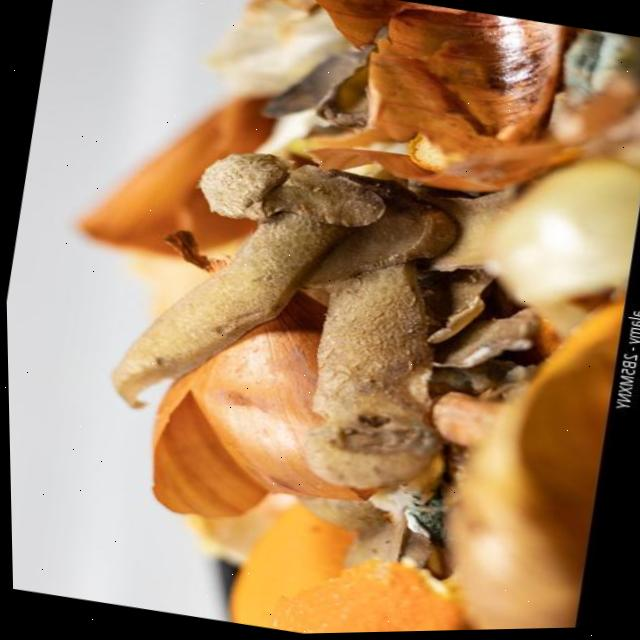Wet: (429, 308, 627, 633), (116, 311, 333, 540), (342, 0, 575, 195), (475, 147, 638, 318)
